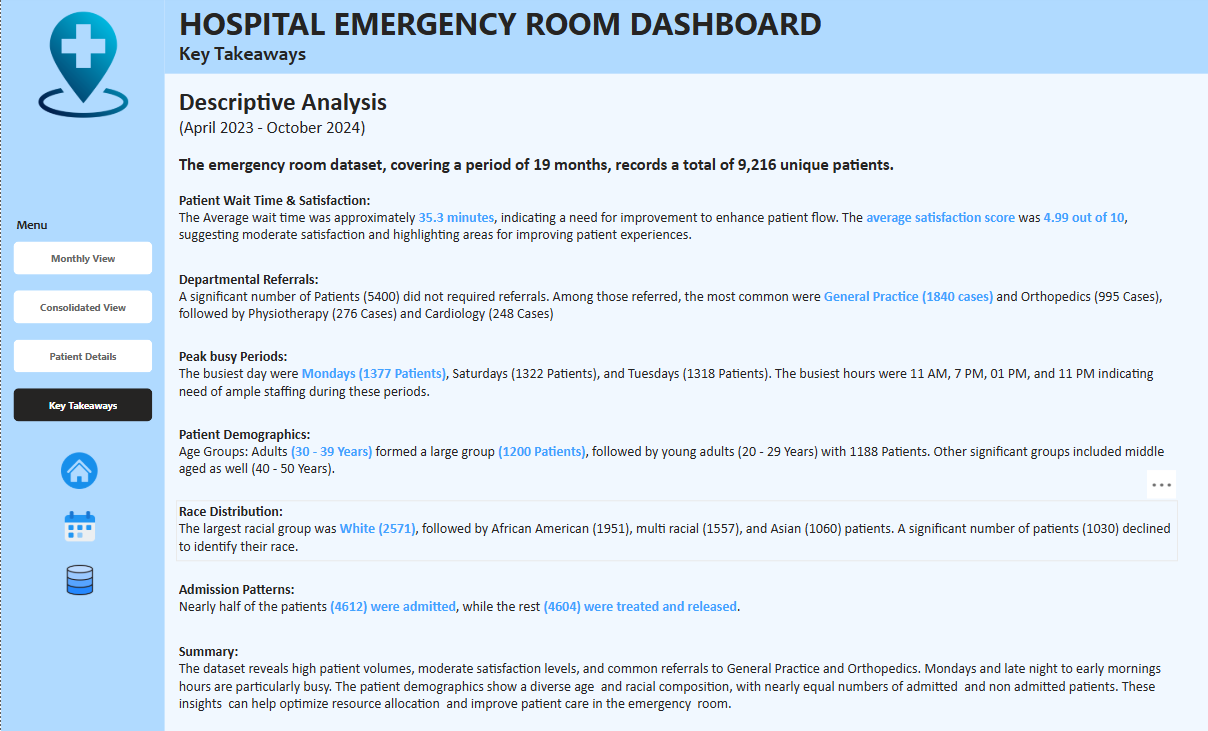

What the dashboard file says about the page in this screenshot:
{"tool":"powerbi","page":{"name":"Key Takeaways","canvas":[2300,1400],"ordinal":3},"visuals":[{"type":"shape","box":[0,0,311.3,1399.9],"z":0},{"type":"shape","box":[311.3,0,1989.1,142.1],"z":1000},{"type":"textbox","box":[332.2,0,1280.5,90],"z":2000},{"type":"image","box":[46.9,17.9,218.9,212.2],"z":3000},{"type":"textbox","box":[333.7,76.1,411.3,59],"z":4000},{"type":"textbox","box":[333.7,161.4,707.8,113.3],"z":5000},{"type":"textbox","box":[332.2,290.2,1930.8,59],"z":6000},{"type":"textbox","box":[333.4,362.4,1905.4,116],"z":7000},{"type":"textbox","box":[333.4,510.3,1905.4,116],"z":8000},{"type":"textbox","box":[333.4,658.2,1905.4,116],"z":9000},{"type":"textbox","box":[333.4,806.1,1905.4,116],"z":10000},{"type":"textbox","box":[331.8,954,1905.4,116],"z":11000},{"type":"textbox","box":[333.4,1101.9,1905.4,85.4],"z":12000},{"type":"textbox","box":[333.4,1219.3,1905.4,149.8],"z":13000},{"type":"pageNavigator","box":[24.2,462.3,264.1,343.1],"z":14000},{"type":"textbox","box":[24.2,409.1,99.9,48.3],"z":15000},{"type":"image","box":[110.1,854.1,79.5,87.7],"z":19000},{"type":"image","box":[116.2,966.2,67.3,75.4],"z":20000},{"type":"image","box":[116.2,1068.1,67.3,75.4],"z":21000}]}

Visuals, with their boxes on the page's 2300x1400 design canvas (x1, y1, x2, y2). These are canvas units, not pixel positions in the 1208x731 screenshot, which may show the page scaled, cropped or inside an application window:
shape: <region>0, 0, 311, 1400</region>
shape: <region>311, 0, 2300, 142</region>
textbox: <region>332, 0, 1613, 90</region>
image: <region>47, 18, 266, 230</region>
textbox: <region>334, 76, 745, 135</region>
textbox: <region>334, 161, 1042, 275</region>
textbox: <region>332, 290, 2263, 349</region>
textbox: <region>333, 362, 2239, 478</region>
textbox: <region>333, 510, 2239, 626</region>
textbox: <region>333, 658, 2239, 774</region>
textbox: <region>333, 806, 2239, 922</region>
textbox: <region>332, 954, 2237, 1070</region>
textbox: <region>333, 1102, 2239, 1187</region>
textbox: <region>333, 1219, 2239, 1369</region>
pageNavigator: <region>24, 462, 288, 805</region>
textbox: <region>24, 409, 124, 457</region>
image: <region>110, 854, 190, 942</region>
image: <region>116, 966, 184, 1042</region>
image: <region>116, 1068, 184, 1144</region>
